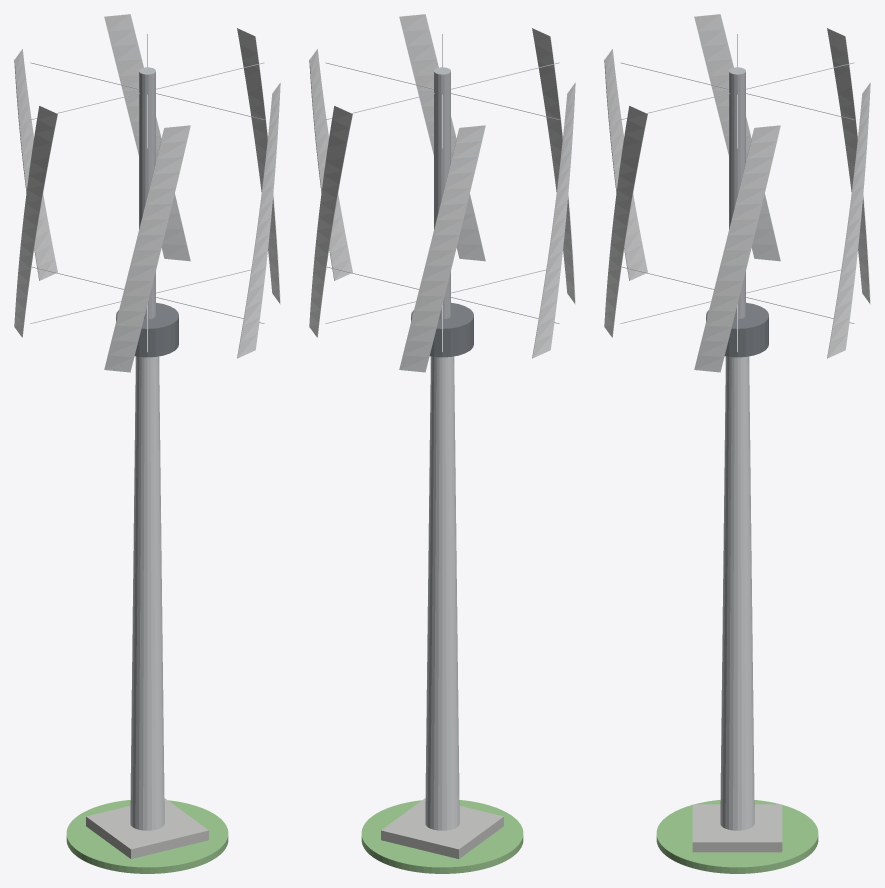
File: kleinwind_garten.glb
3 renders of one model, left to right at view 1: azimuth 30°, elevation 25°; view 2: azimuth 150°, elevation 25°; view 3: azimuth 270°, elevation 25°, orthographic.
Visible parts, largest first — view 1: Blaetter, Mast, Wiese, Sockel, Welle, Generator, Arme; view 2: Blaetter, Mast, Wiese, Sockel, Welle, Generator, Arme; view 3: Blaetter, Mast, Wiese, Sockel, Welle, Generator, Arme.
Boxes of the visible parts, box(x1,y1,x2,y2) form: Blaetter: box(14, 14, 280, 372); Mast: box(130, 356, 164, 830); Wiese: box(66, 800, 228, 873); Sockel: box(86, 798, 208, 858); Welle: box(139, 67, 155, 319); Generator: box(116, 302, 178, 357); Arme: box(30, 34, 264, 352); Blaetter: box(309, 14, 575, 372); Mast: box(425, 356, 459, 830); Wiese: box(361, 800, 523, 873); Sockel: box(381, 798, 503, 858); Welle: box(434, 67, 450, 319); Generator: box(411, 302, 473, 357); Arme: box(325, 34, 559, 352); Blaetter: box(604, 14, 870, 372); Mast: box(720, 356, 754, 830); Wiese: box(656, 800, 818, 873); Sockel: box(692, 804, 782, 852); Welle: box(729, 67, 745, 318); Generator: box(706, 302, 768, 357); Arme: box(620, 34, 854, 352).
Size of the model in its own units: 3.02 by 9.43 by 2.96.
